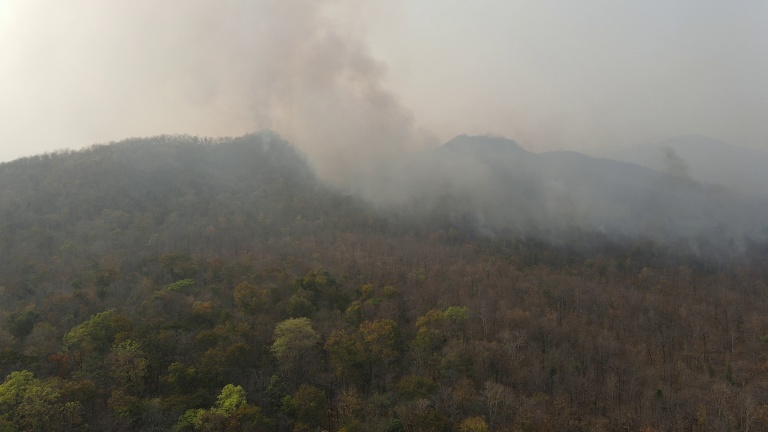smoke: (198, 5, 581, 247), (591, 117, 768, 251), (253, 95, 278, 157)
